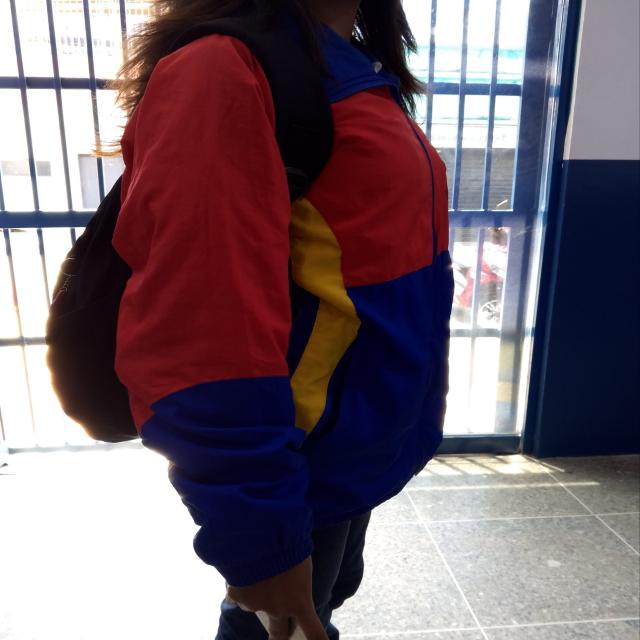chaqueta_unefa: (112, 0, 456, 572)
